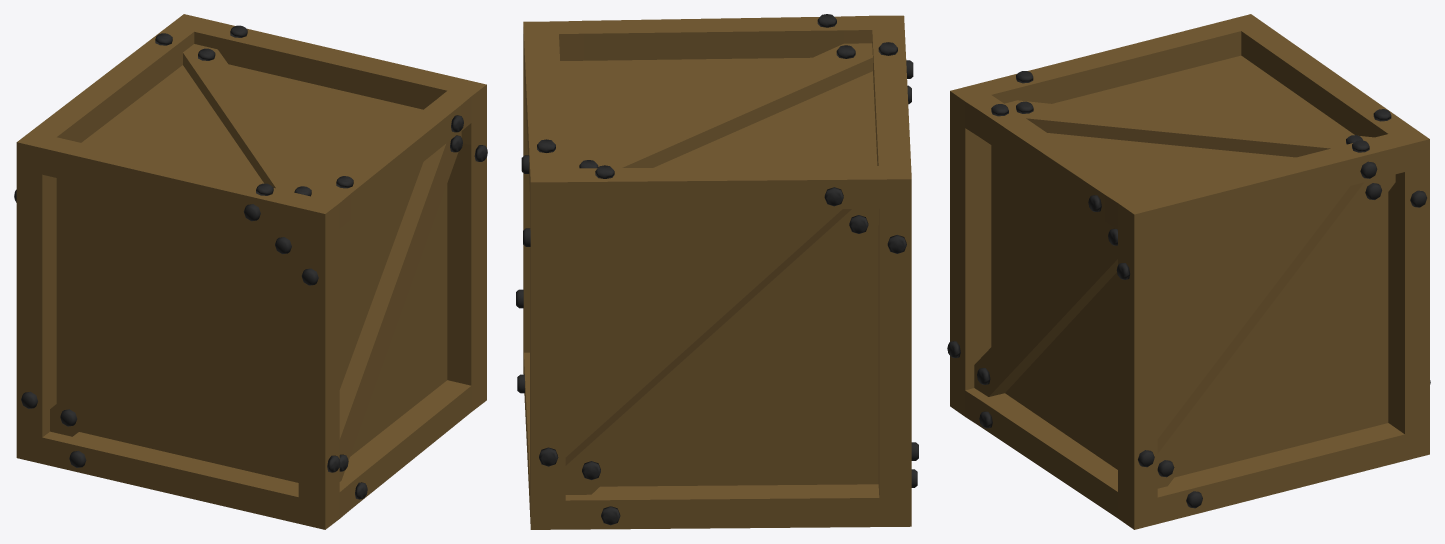
The model's file is kutukucuk.fbx.
3 views of the same model, side by side, from view 1: azimuth 30°, elevation 25°; view 2: azimuth 150°, elevation 25°; view 3: azimuth 270°, elevation 25° (orthographic). The views are drawn at different scales.
Parts seen in each view (by area): view 1: Cube.145; view 2: Cube.145; view 3: Cube.145.
Part boxes in pixels (<box>): Cube.145: <box>14,14,487,529</box>; Cube.145: <box>516,14,918,529</box>; Cube.145: <box>947,14,1430,529</box>.
Bounding box in the file's own units: 33.75 × 25.05 × 34.13.
